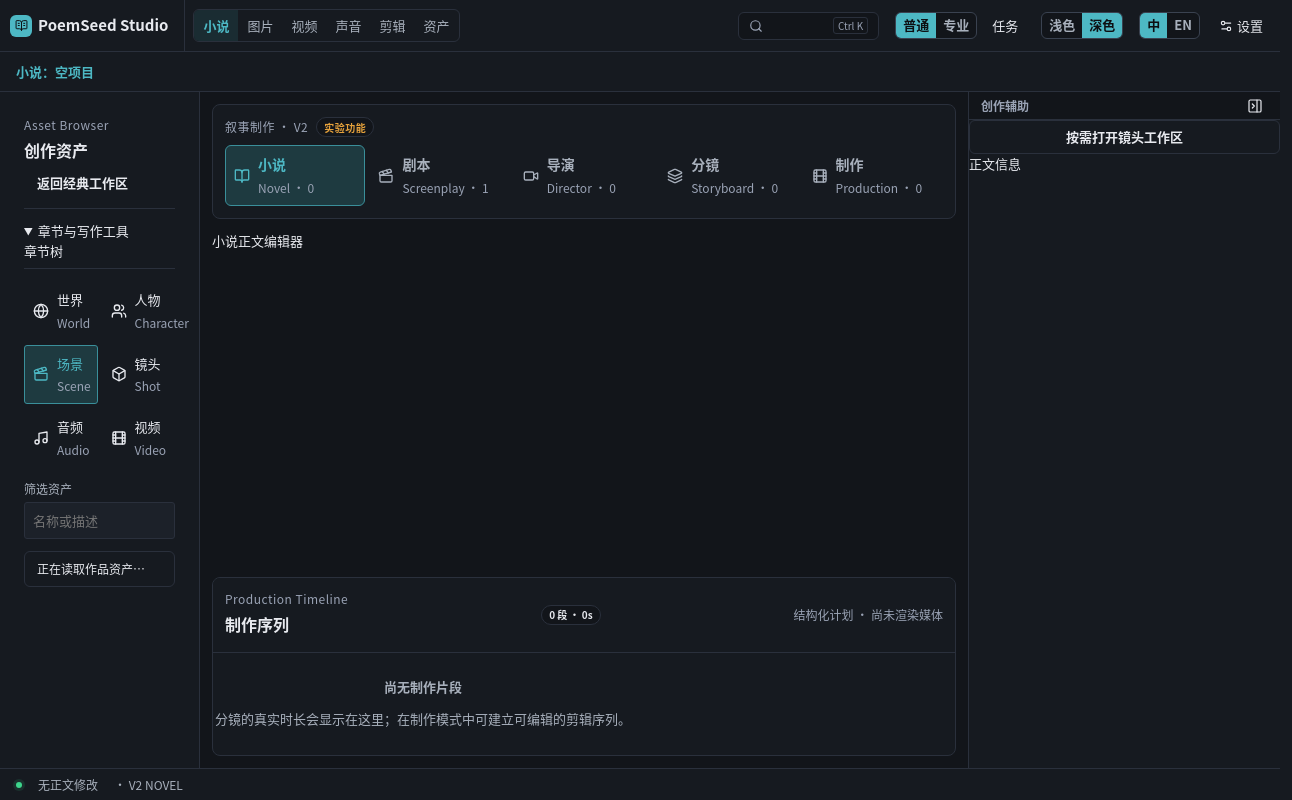
Scenario: stages a saved Script through the original derive route only after confirmation and opens exact source-bound text
The image size is (1292, 800).
Click the tab "剧本 Screenplay · 1": (440, 176) [369, 145, 510, 206]
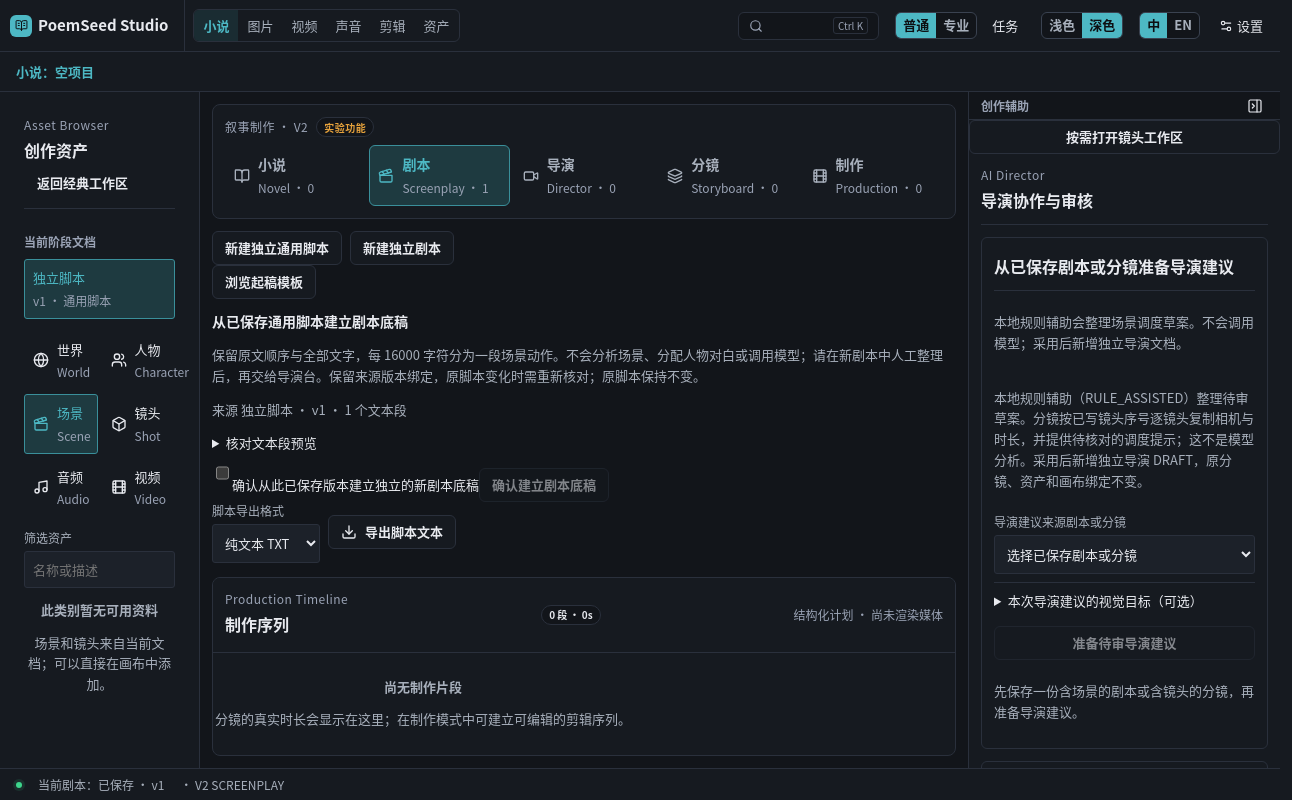
expect the button "确认建立剧本底稿" is disabled: met, box [479, 468, 609, 502]
Click the checkbox labelled "确认从此已保存版本建立独立的新剧本底稿": (222, 473) [216, 456, 229, 490]
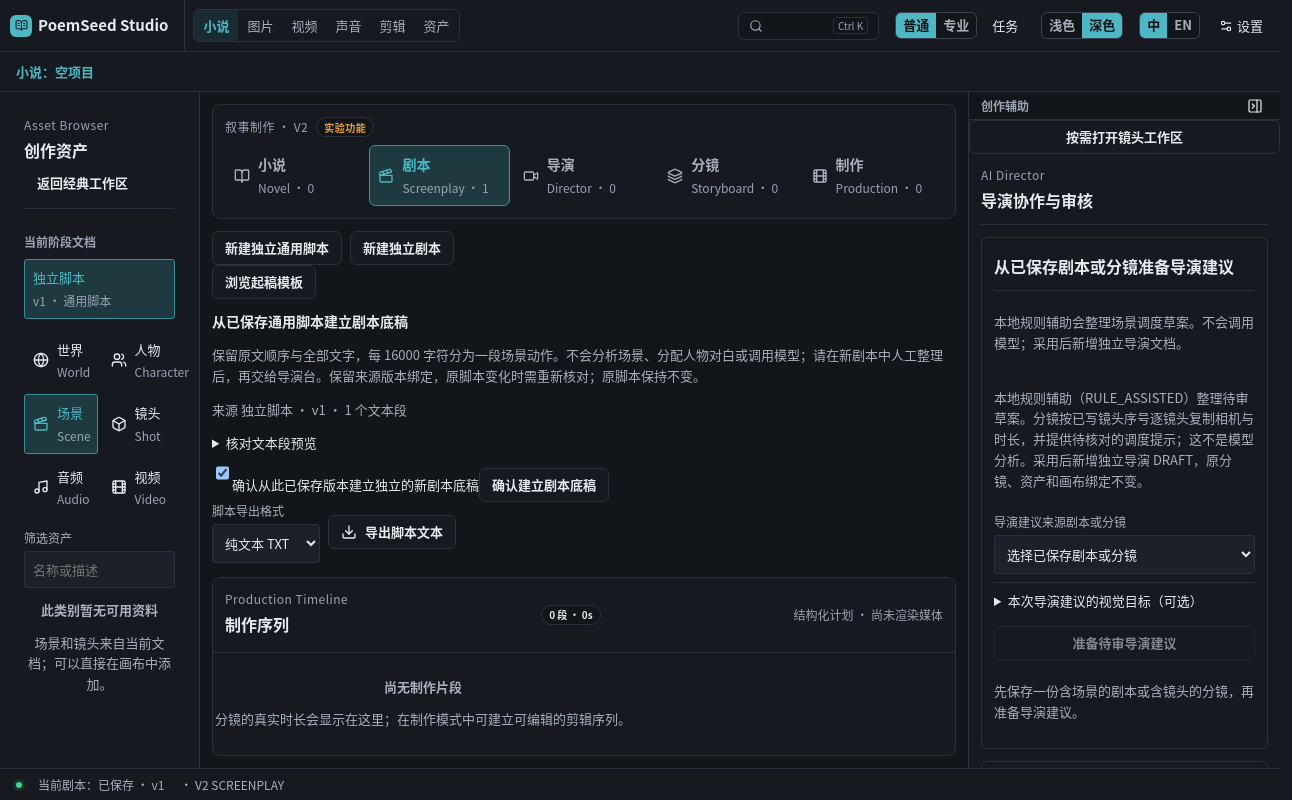
Click the button "确认建立剧本底稿": (544, 485) [479, 468, 609, 502]
(page scrolled)
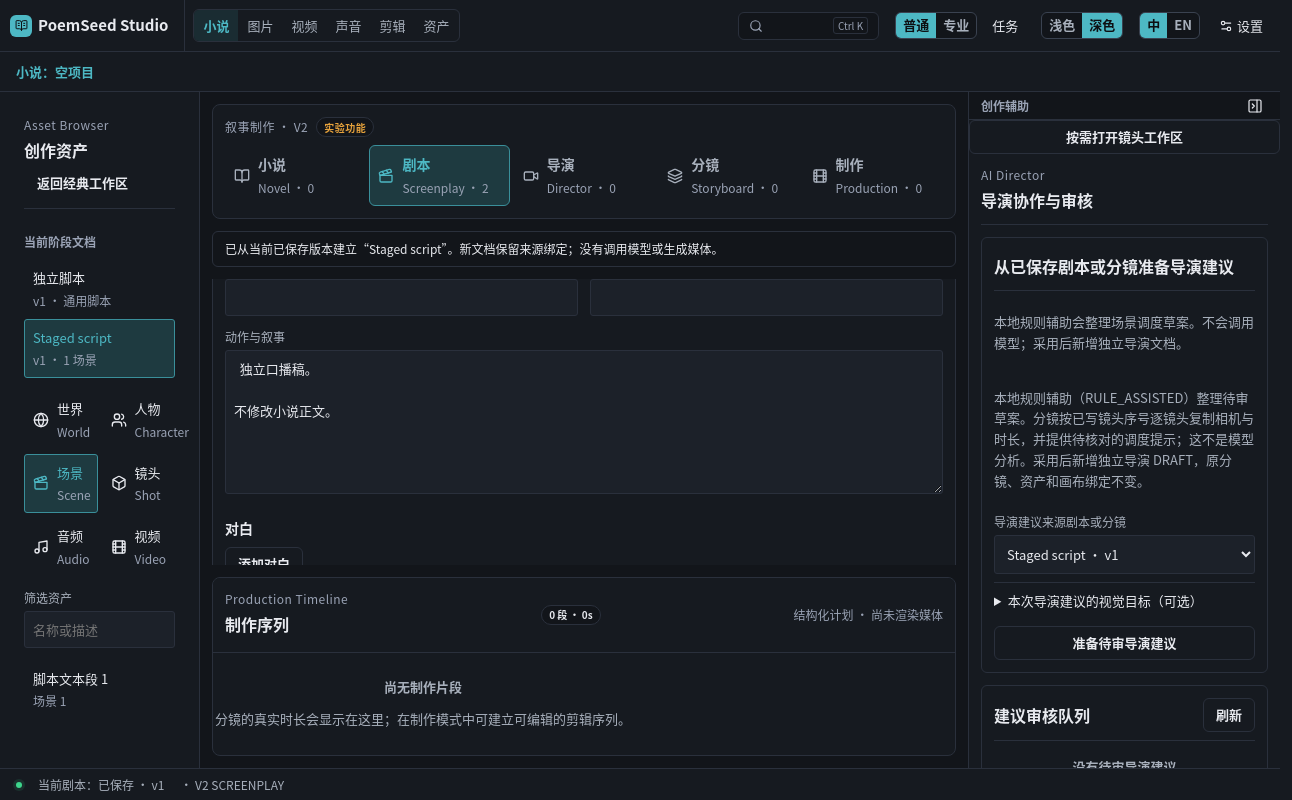
expect the text "已从当前已保存版本建立“Staged script”。新文档保留来源绑定；没有调用模型或生成媒体。" is shown: met, box [212, 231, 956, 267]
